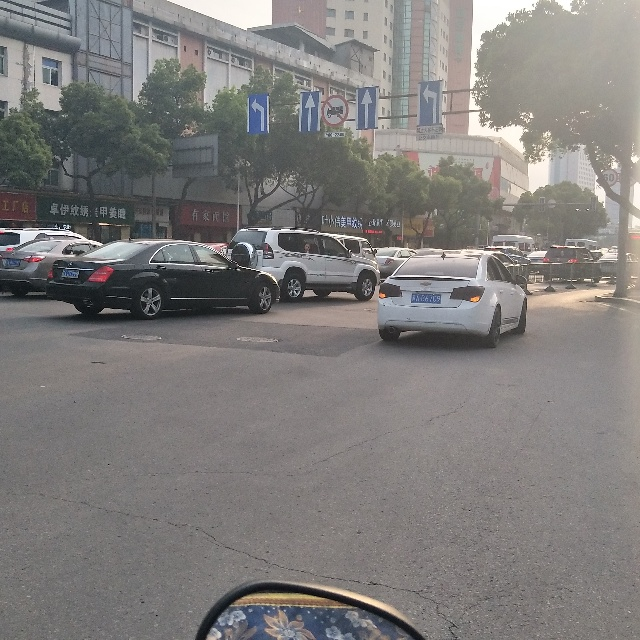left: (242, 87, 276, 137), (417, 77, 443, 134)
straight: (297, 86, 323, 137), (357, 83, 379, 135)
